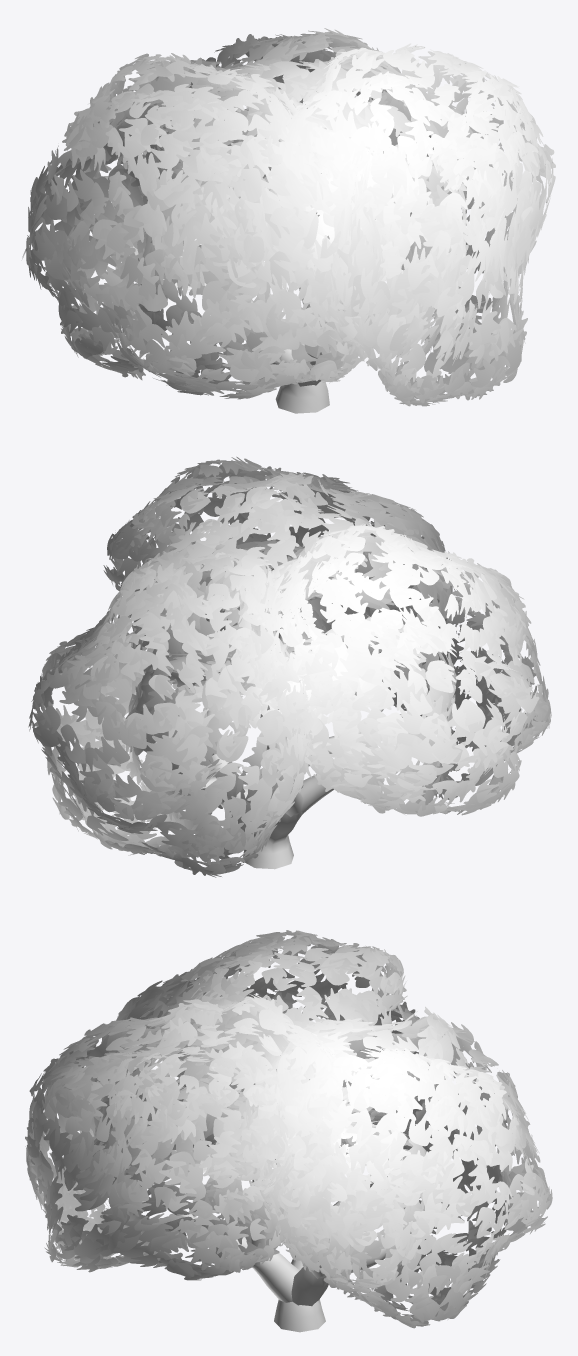
The model's file is big_tree.fbx.
3 views of the same model, one above another, from view 1: azimuth 30°, elevation 25°; view 2: azimuth 150°, elevation 25°; view 3: azimuth 270°, elevation 25° (orthographic). The views are drawn at different scales.
Parts seen in each view (by area): view 1: leaf_5.003, big_tree_trunk; view 2: leaf_5.003, big_tree_trunk; view 3: leaf_5.003, big_tree_trunk.
Part boxes in pixels (x1,y1,x2,y2): leaf_5.003: (22, 28, 555, 406); big_tree_trunk: (179, 173, 343, 413); leaf_5.003: (28, 456, 551, 877); big_tree_trunk: (188, 612, 402, 869); leaf_5.003: (25, 930, 552, 1328); big_tree_trunk: (142, 1159, 386, 1332).
Bounding box in the file's own units: 37.64 × 27.81 × 40.24.
